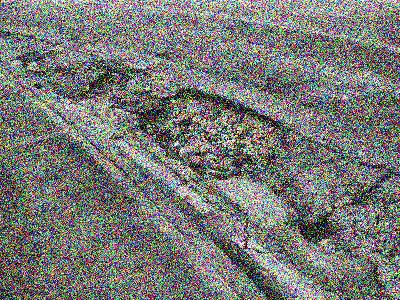pothole: (133, 83, 289, 182), (75, 64, 152, 100), (295, 213, 337, 243), (16, 49, 54, 72), (0, 27, 21, 42)
